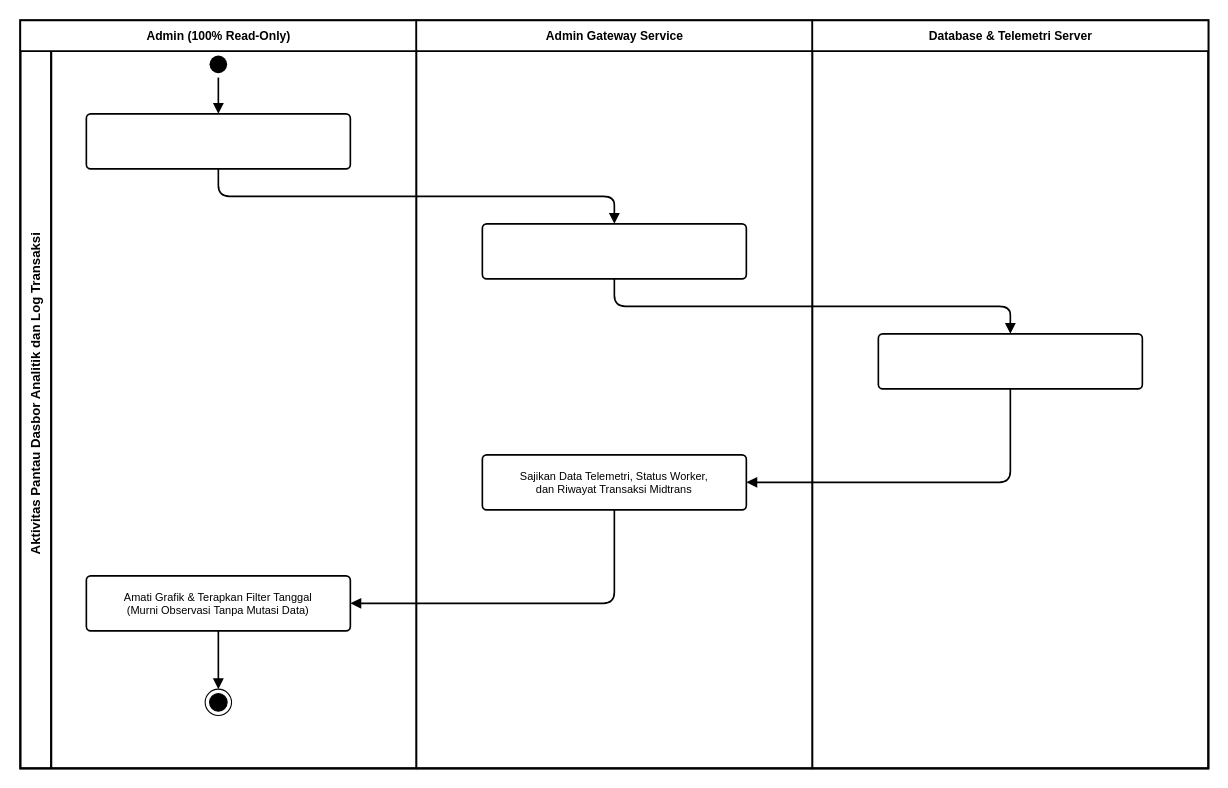
This 1228x788 diagram has some shape labels left out. Each missing label, with the centre of its shape:
"Eksekusi Kueri Agregasi SELECT: Total Audit, Tren Skor, & Total Revenue" belongs at pixel 1010 361.
"Masuk dengan Akun Admin & Buka Halaman Dasbor Analitik" belongs at pixel 218 141.
"Validasi Token JWT & Otorisasi Role == 'ADMIN' (Read-Only Guard)" belongs at pixel 614 251.
